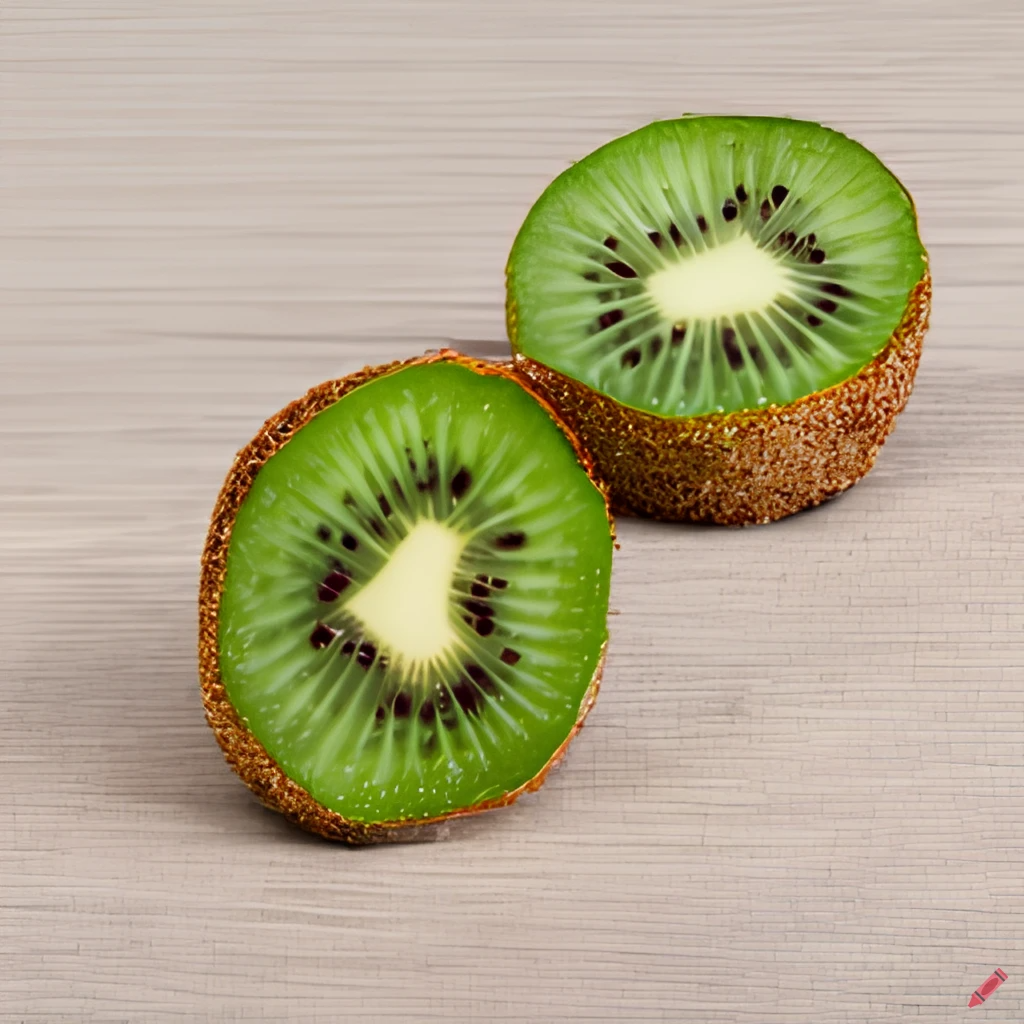Kiwi: (140, 341, 626, 888), (502, 70, 928, 512)
